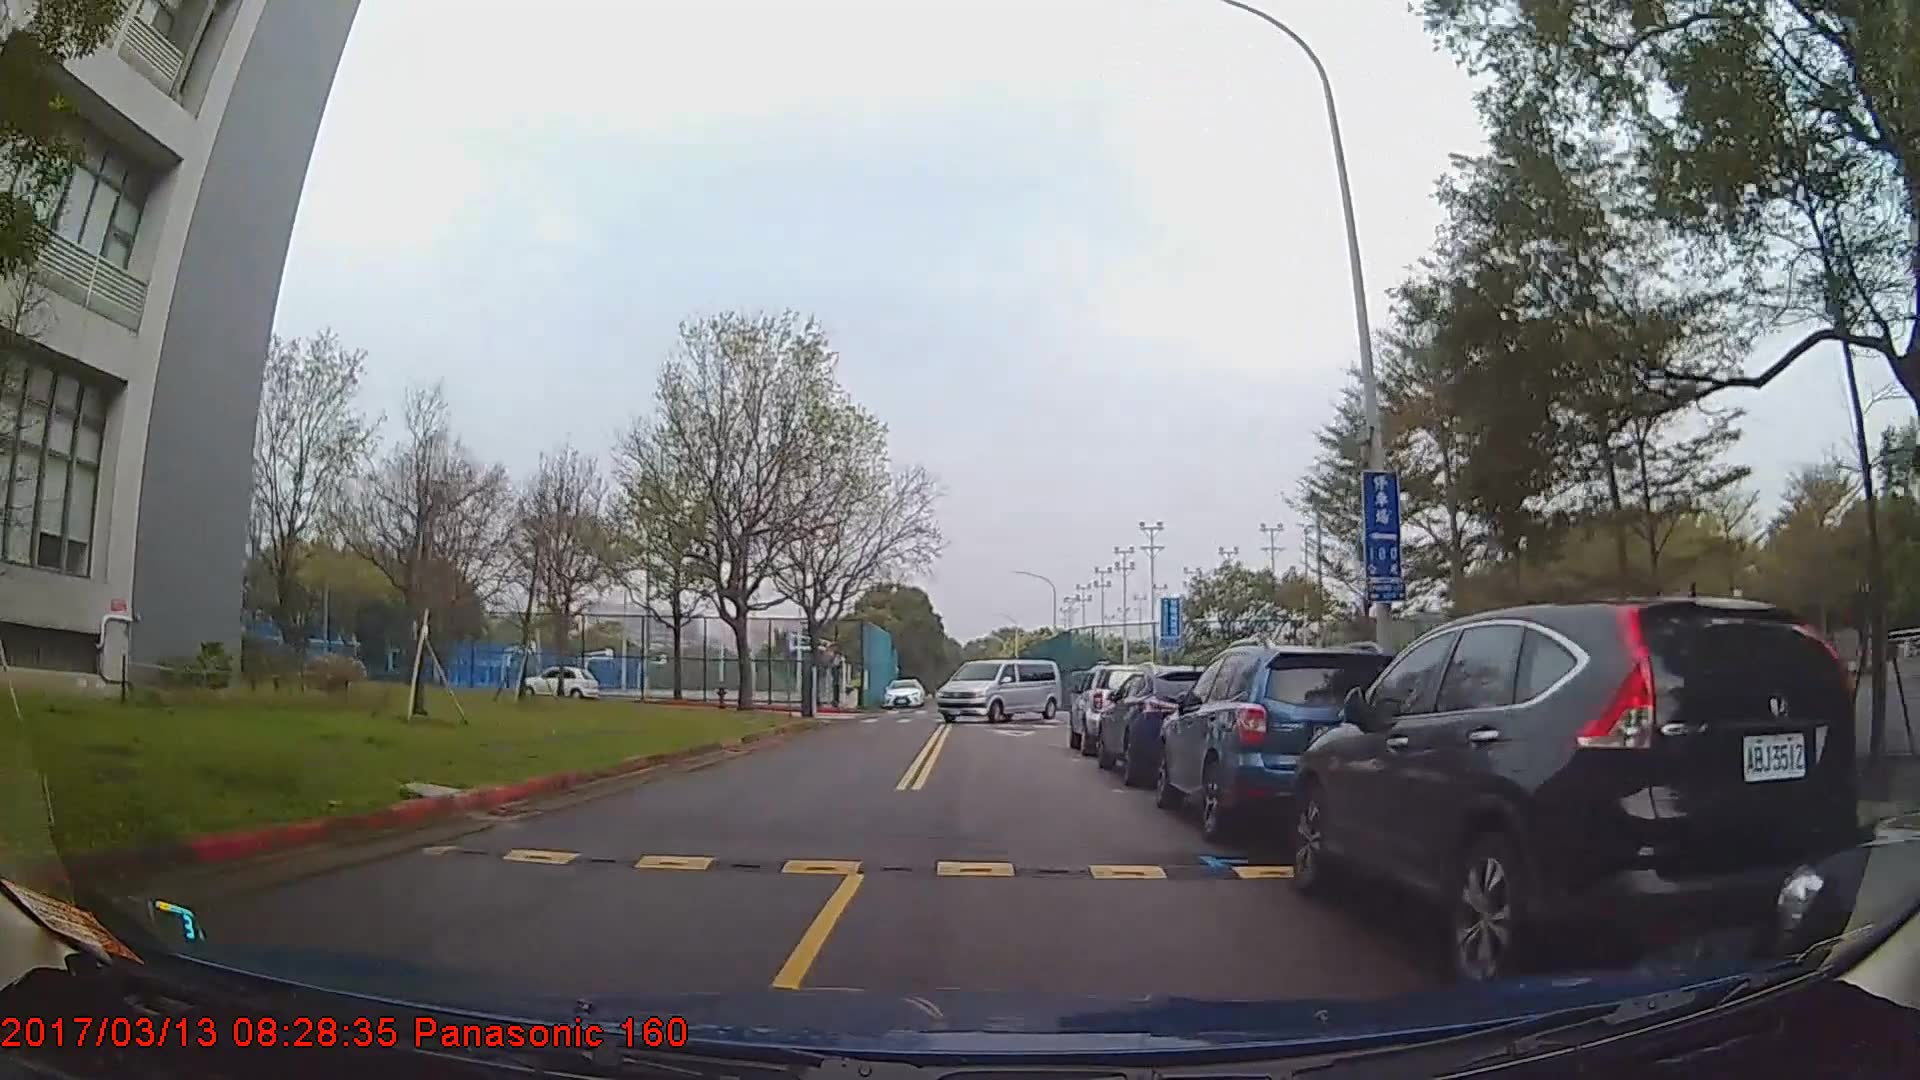vehicle: (1287, 593, 1859, 989), (1153, 645, 1406, 839), (1096, 663, 1236, 785), (936, 655, 1064, 725), (1068, 663, 1155, 756), (524, 663, 597, 700), (880, 676, 924, 708)
